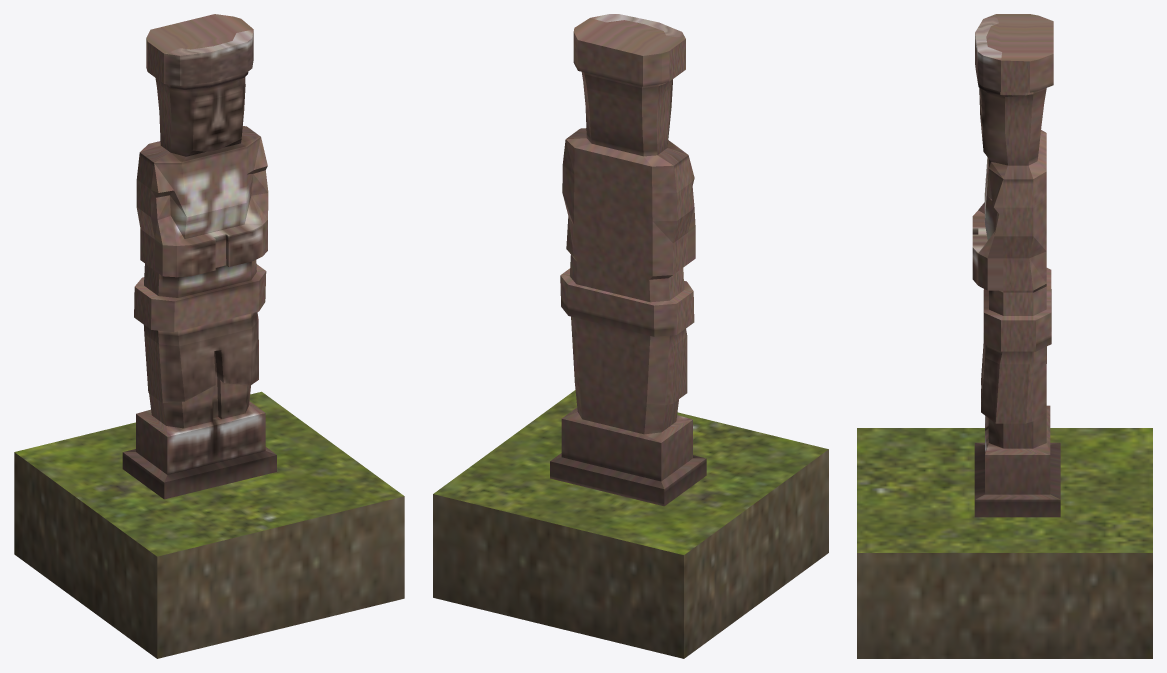
File: jun_boundary_statue.obj
3 views of the same model, side by side, from view 1: azimuth 30°, elevation 25°; view 2: azimuth 150°, elevation 25°; view 3: azimuth 270°, elevation 25° (orthographic). The views are drawn at different scales.
Parts seen in each view (by area): view 1: tile_boundary_statue; view 2: tile_boundary_statue; view 3: tile_boundary_statue.
Boxes of the visible parts, <box> form: tile_boundary_statue: <box>14,14,404,658</box>; tile_boundary_statue: <box>433,14,828,658</box>; tile_boundary_statue: <box>857,14,1152,658</box>.
Bounding box in the file's own units: 1 × 2.08 × 1.
Materials: 1 (1 with a texture image).
